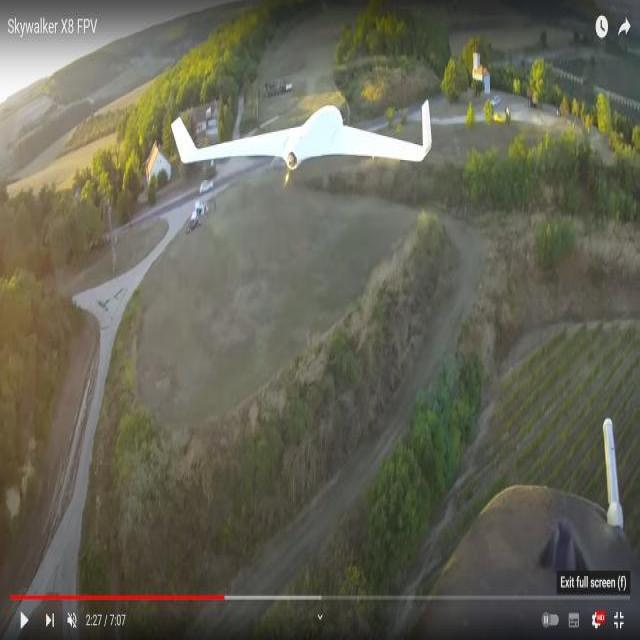iha: (169, 40, 411, 86)
